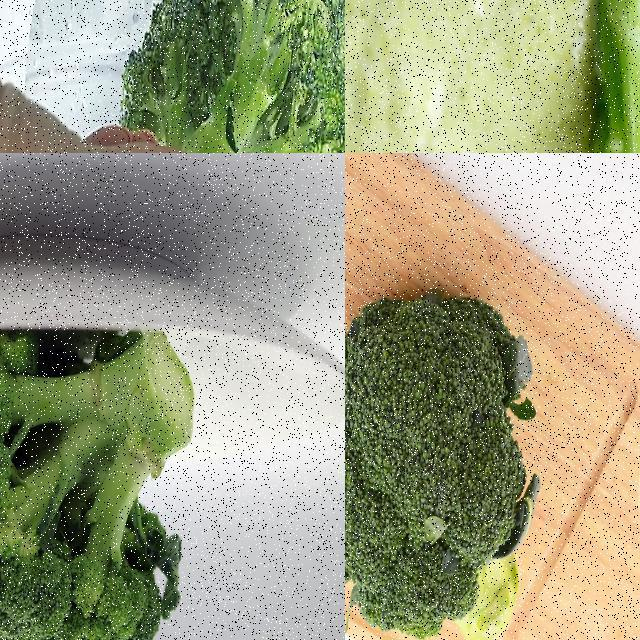broccoli: (345, 283, 546, 639), (0, 328, 196, 639), (101, 0, 344, 152), (543, 0, 639, 152)
